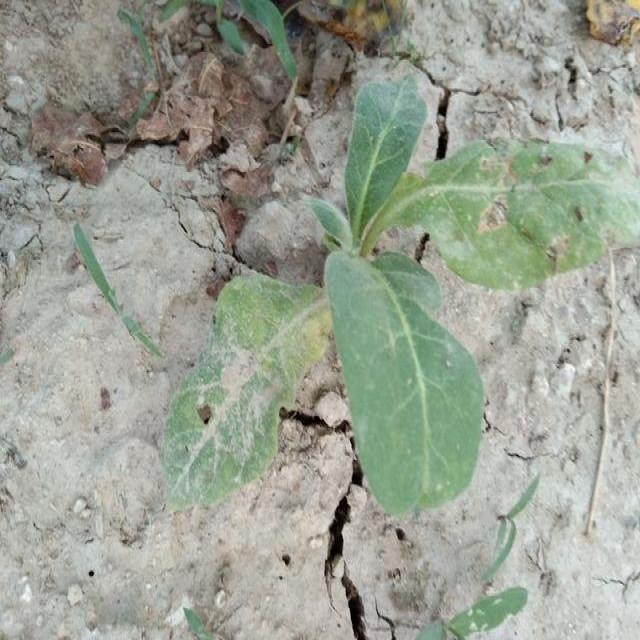crop: (149, 68, 630, 504)
